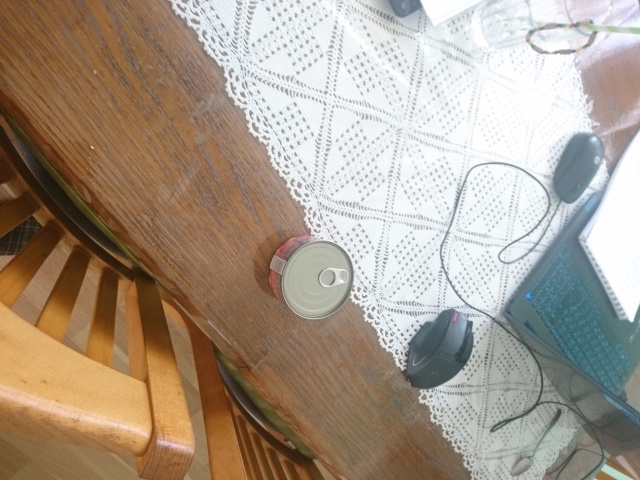Giana Tuna Salad Mexico 185g: (265, 232, 357, 323)
